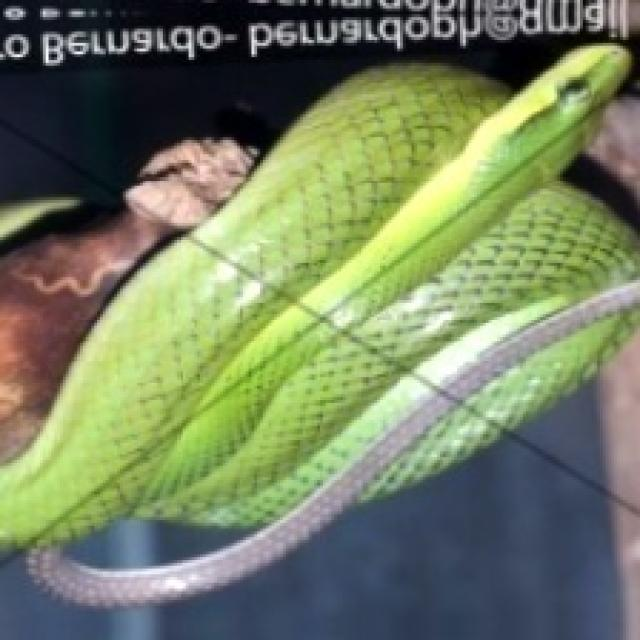red-tailed green ratsnake: (0, 46, 637, 600)
